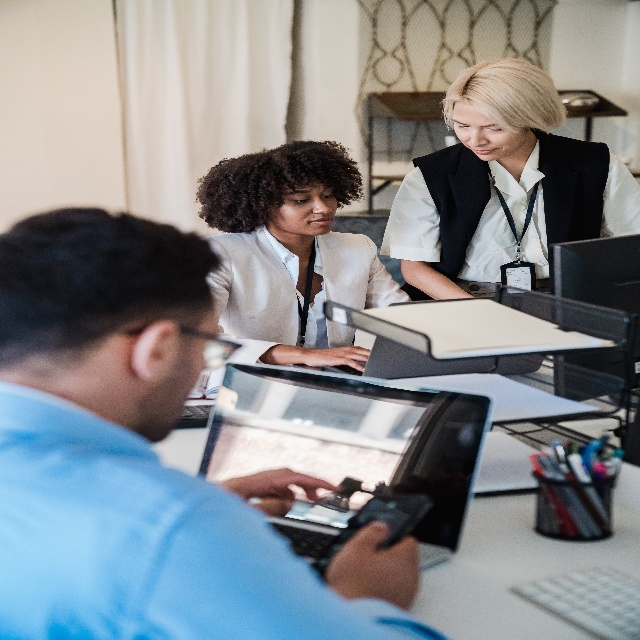Gafas: (126, 320, 233, 362)
Sin_guantes: (325, 524, 417, 601), (223, 466, 346, 509), (304, 345, 371, 365)
